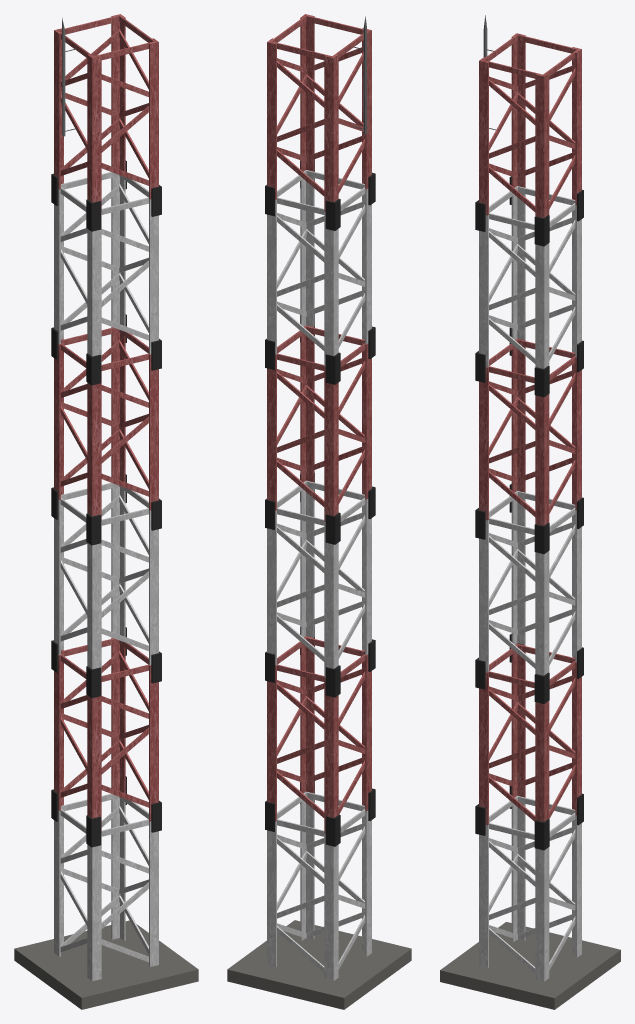
Rendered from radio-tower.zfix-v1.lod1.glb.
3 renders of one model, left to right at view 1: azimuth 30°, elevation 25°; view 2: azimuth 150°, elevation 25°; view 3: azimuth 330°, elevation 25°, orthographic.
Parts seen in each view (by area): view 1: Torre.005_Torre_0, Torre.004_torre_branca_0, PinoJuncao.004_PinoJuncao_0; view 2: Torre.005_Torre_0, Torre.004_torre_branca_0, PinoJuncao.004_PinoJuncao_0; view 3: Torre.005_Torre_0, Torre.004_torre_branca_0, PinoJuncao.004_PinoJuncao_0.
Boxes of the visible parts, x1,y1,x2,y2 form: Torre.005_Torre_0: (54,14,158,833); Torre.004_torre_branca_0: (54,172,158,980); PinoJuncao.004_PinoJuncao_0: (14,18,198,1009); Torre.005_Torre_0: (267,14,371,833); Torre.004_torre_branca_0: (267,170,371,980); PinoJuncao.004_PinoJuncao_0: (227,16,411,1009); Torre.005_Torre_0: (479,33,581,825); Torre.004_torre_branca_0: (479,186,581,981); PinoJuncao.004_PinoJuncao_0: (440,15,620,1009).
Size of the model in its own units: 5.02 by 39.65 by 5.02.
Materials: 3 (2 with a texture image).
